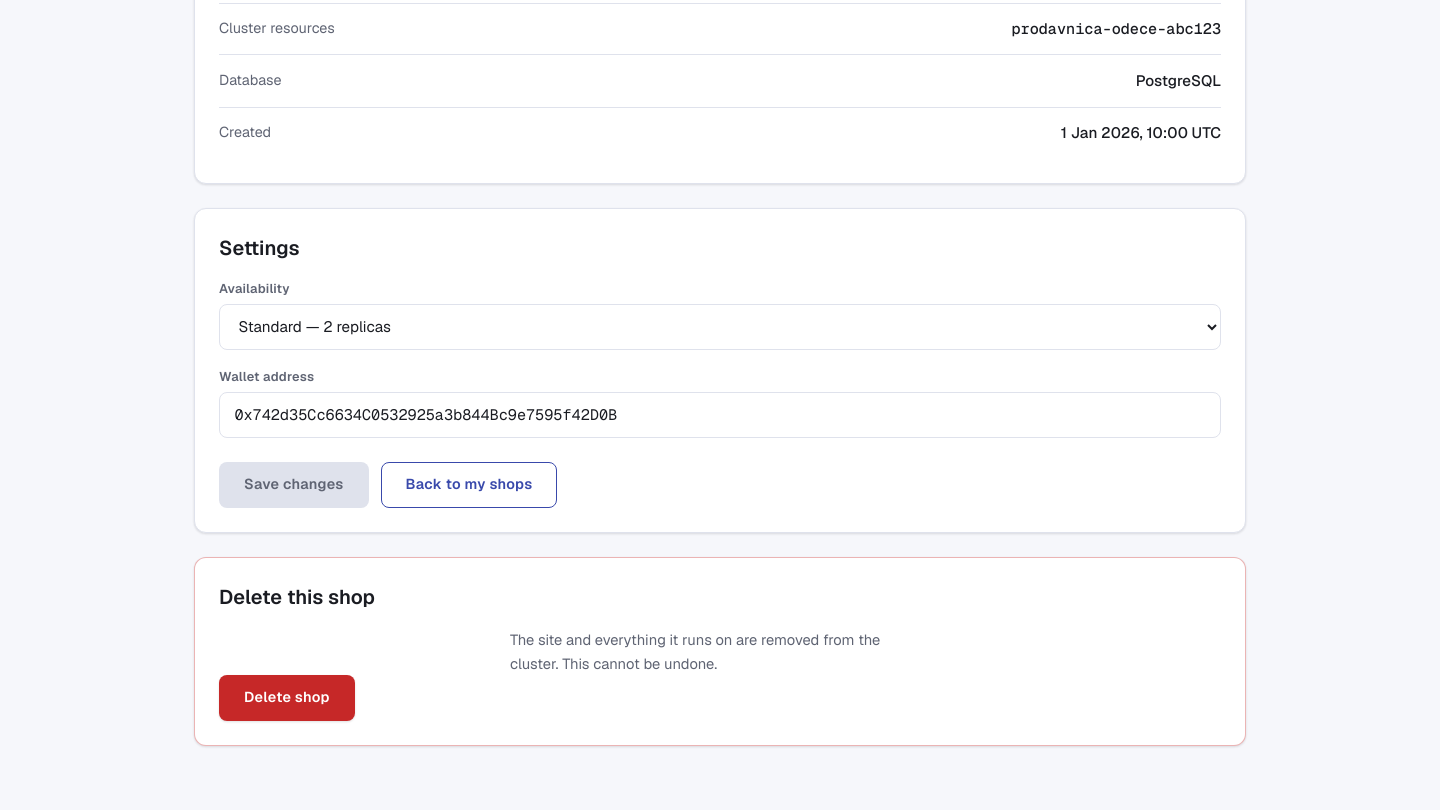
Scenario: ShopPage › leaves the shop alone when the owner backs out
This screenshot has width=1440, height=810.
(page scrolled)
Expected: the field labelled "Wallet address" is shown, 219,392 -> 1221,438
Click the button "Delete shop" at (287, 698), box 219,675 -> 355,721
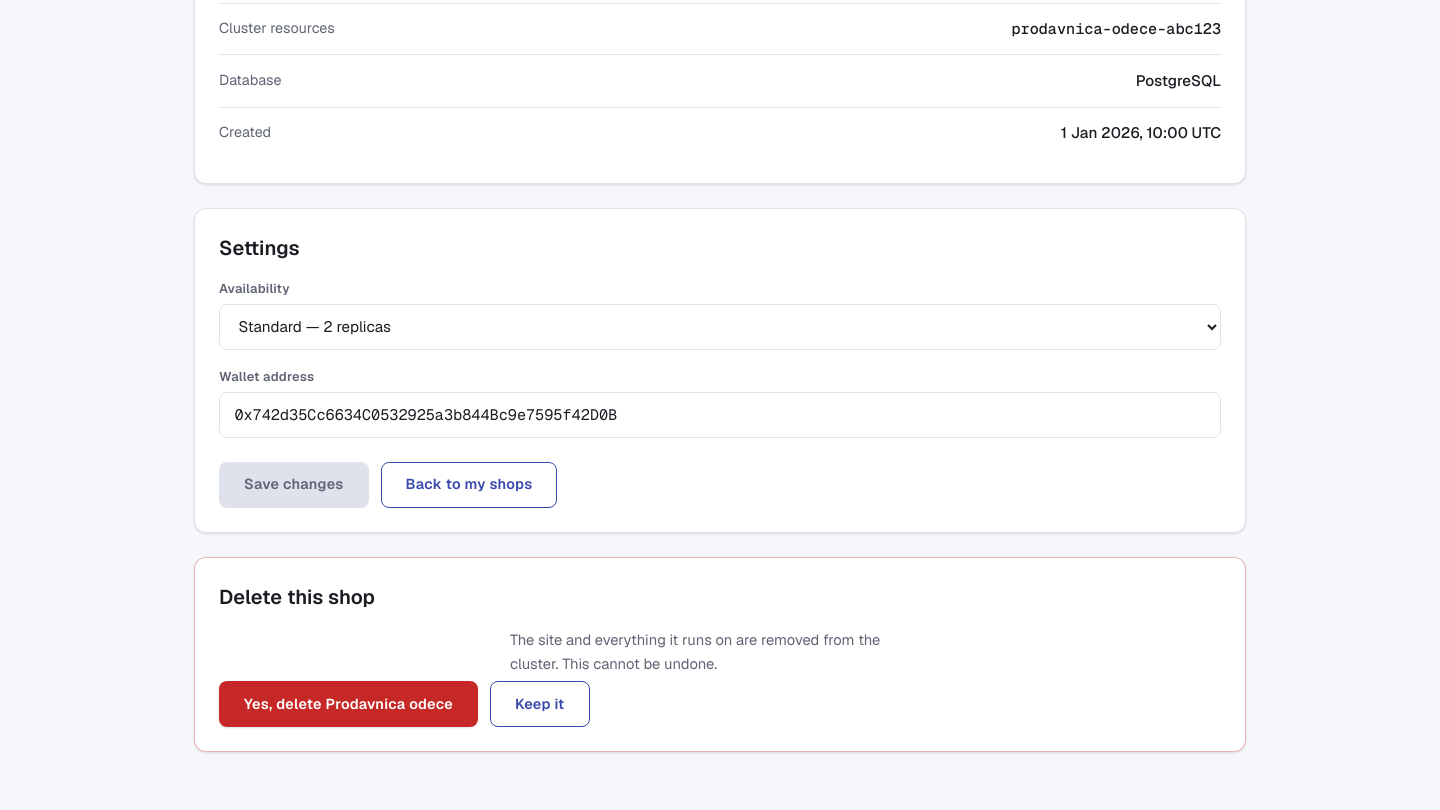
Click the button "Keep it" at (540, 704), box 490,682 -> 590,728
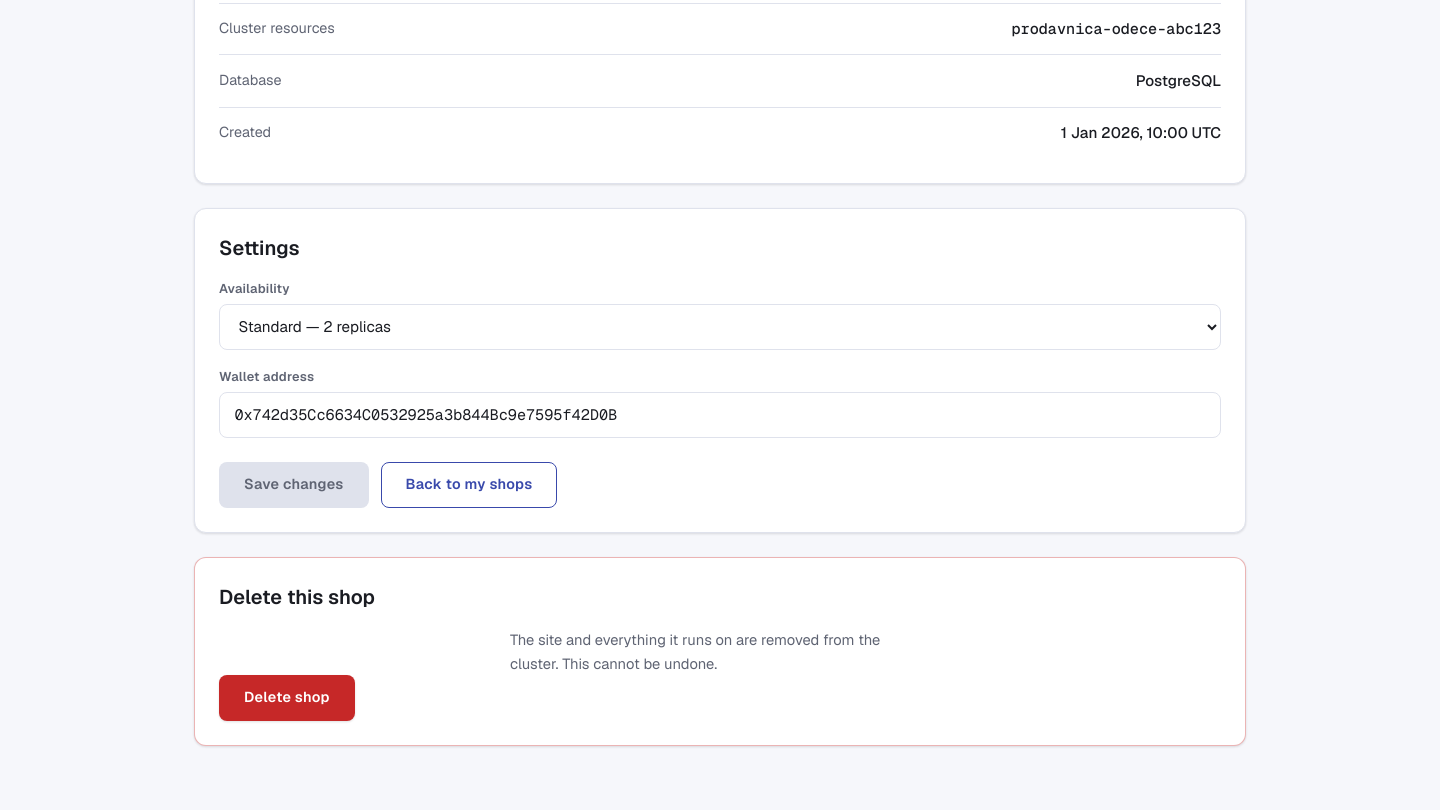
Expected: the button "Delete shop" is shown, 219,675 -> 355,721
